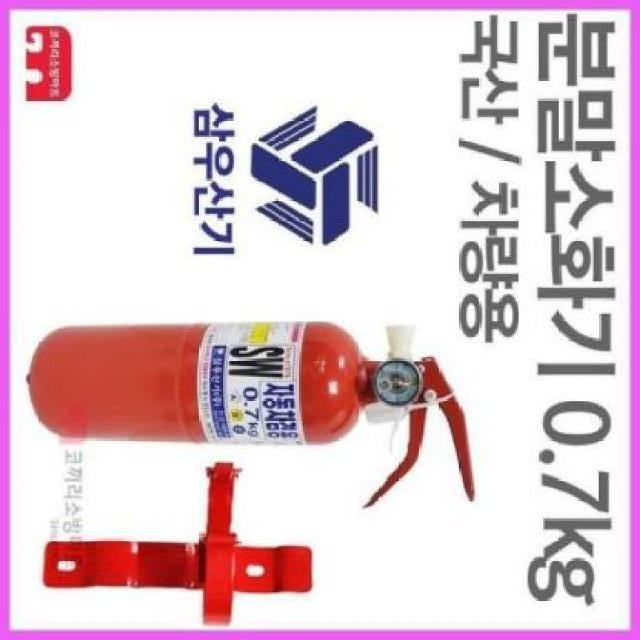fire extinguisher: (28, 320, 475, 511)
